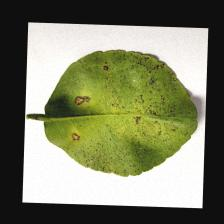canker: (57, 56, 172, 152)
